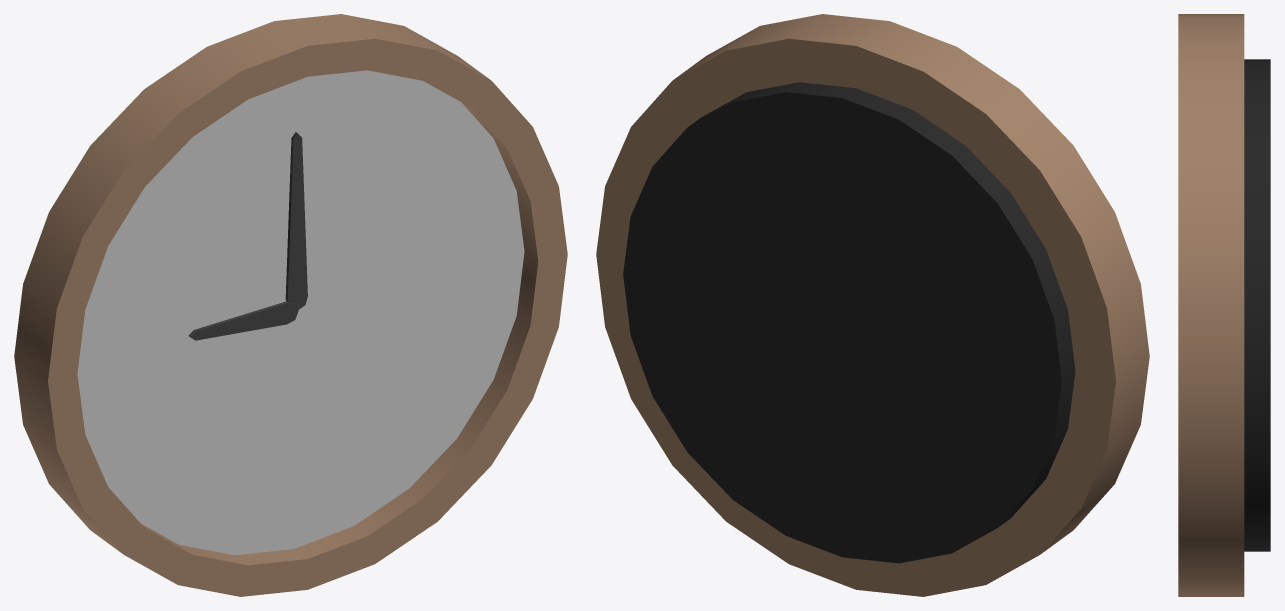
File: clock_W.fbx
3 renders of one model, left to right at view 1: azimuth 30°, elevation 25°; view 2: azimuth 150°, elevation 25°; view 3: azimuth 270°, elevation 25°, orthographic. The views are drawn at different scales.
Visible parts, largest first — view 1: polySurface69, WallClock_03_Hour; view 2: polySurface70, polySurface69; view 3: polySurface69, polySurface70.
Boxes of the visible parts, bbox=[...] form: polySurface69: bbox=[14, 14, 567, 596]; WallClock_03_Hour: bbox=[188, 132, 307, 340]; polySurface70: bbox=[623, 82, 1075, 563]; polySurface69: bbox=[596, 14, 1149, 596]; polySurface69: bbox=[1178, 14, 1244, 596]; polySurface70: bbox=[1244, 59, 1270, 551].
Size of the model in its own units: 33.96 by 33.96 by 5.36.
